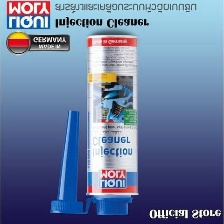aerosol_cans: (80, 28, 141, 219)
